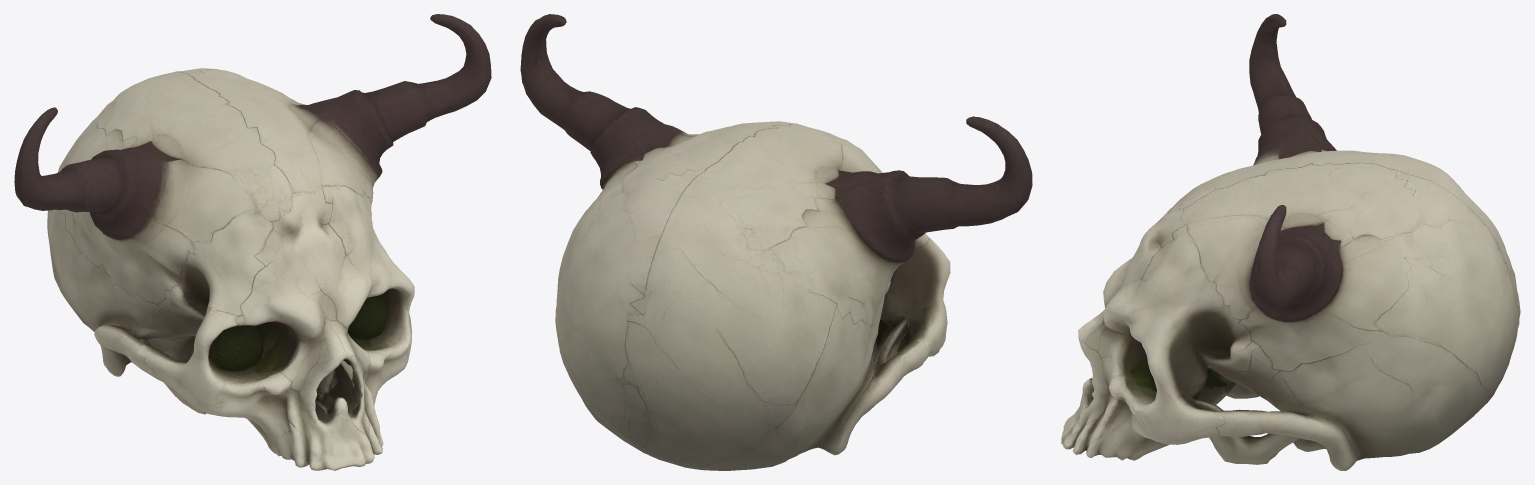
The model's file is giant-skull.opt.glb.
3 views of the same model, side by side, from view 1: azimuth 30°, elevation 25°; view 2: azimuth 150°, elevation 25°; view 3: azimuth 270°, elevation 25° (orthographic). The views are drawn at different scales.
Size of the model in its own units: 1.91 by 1.26 by 1.6.
1 material, 1 textured.
